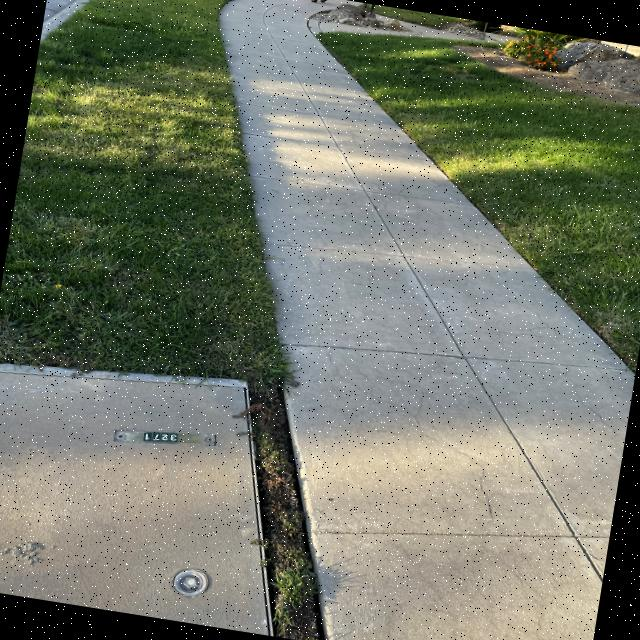walkway: (248, 301, 638, 581), (246, 219, 591, 390), (233, 133, 516, 272), (299, 520, 605, 640), (217, 69, 436, 185), (222, 38, 394, 120), (225, 1, 334, 66)
